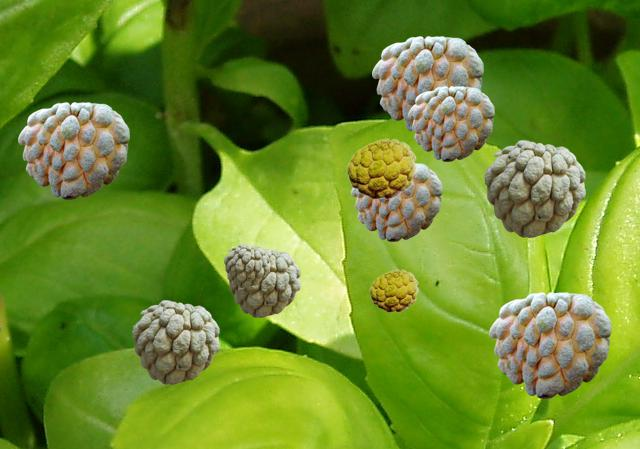atis: (489, 292, 610, 397), (18, 102, 128, 198), (372, 36, 482, 131), (484, 140, 584, 236), (132, 300, 218, 383), (351, 163, 441, 240), (408, 86, 493, 160), (227, 248, 299, 316), (346, 138, 415, 198), (369, 269, 417, 311), (224, 244, 268, 286)
